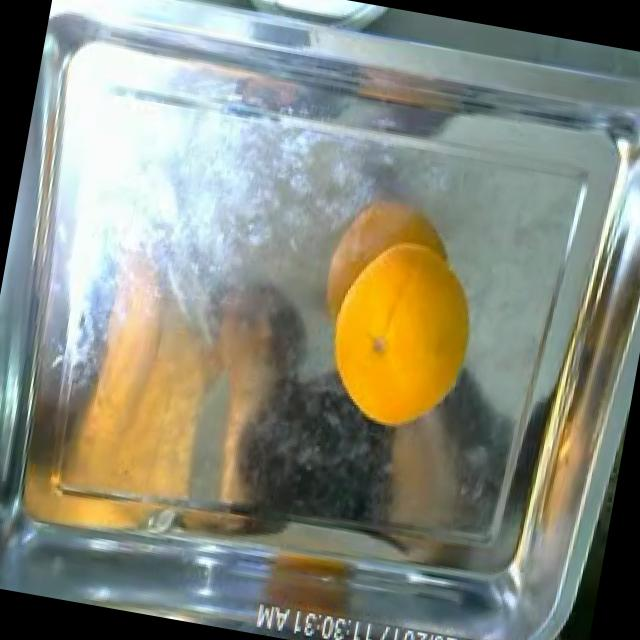Fruit: (305, 238, 494, 456), (352, 388, 524, 570)
